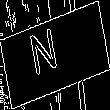N_S: (38, 25, 72, 85)
